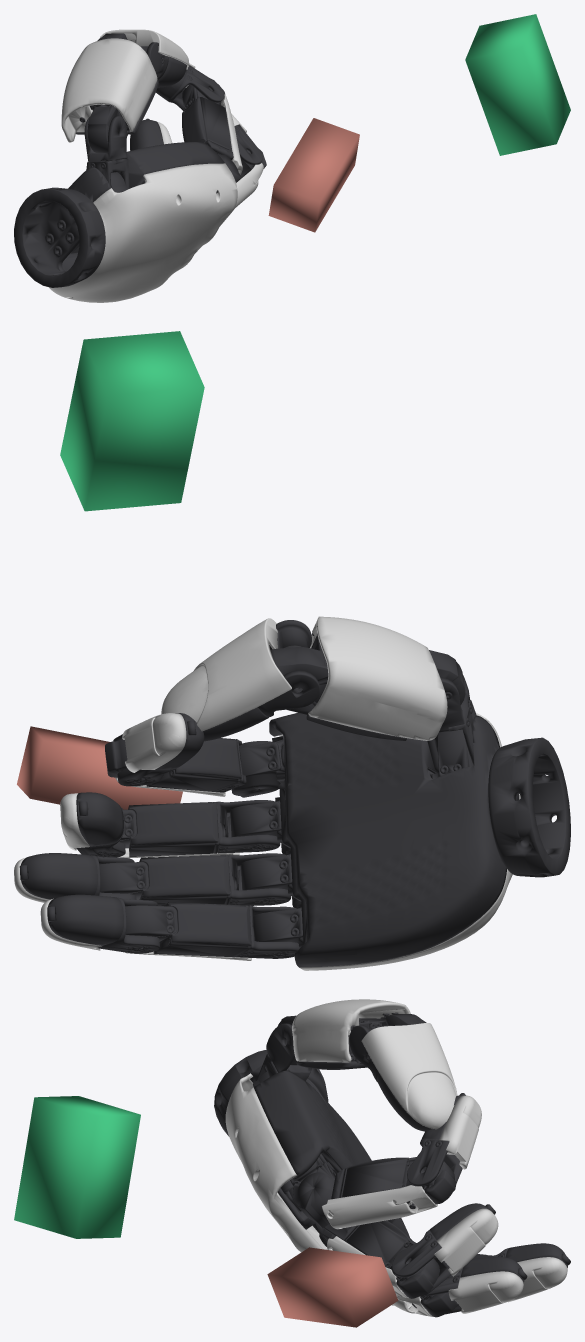
Rendered from prediction.glb.
3 views of the same model, one above another, from view 1: azimuth 30°, elevation 25°; view 2: azimuth 150°, elevation 25°; view 3: azimuth 270°, elevation 25° (orthographic). The views are drawn at different scales.
Parts seen in each view (by area): view 1: HAND__000__right_hand_back_link.STL__material, HAND__008__right_hand_link.STL__material, OBJECT__00__recorded_box, HAND__028__right_hand_thumb_rotaback_link1.STL__material, OBJECT__01__recorded_box, HAND__003__right_hand_index_rota_link1.STL__material, HAND__024__right_hand_thumb_bend_link.STL__material, HAND__025__right_hand_thumb_rota_link1.STL__material, HAND__004__right_hand_index_rota_link2.STL__material, HAND__029__right_hand_thumb_rotaback_link2.STL__material, HAND__026__right_hand_thumb_rota_link2.STL__material, HAND__015__right_hand_pinky_link2.STL__material (+3 smaller); view 2: HAND__008__right_hand_link.STL__material, OBJECT__00__recorded_box, HAND__028__right_hand_thumb_rotaback_link1.STL__material, HAND__029__right_hand_thumb_rotaback_link2.STL__material, HAND__019__right_hand_ring_link1.STL__material, HAND__014__right_hand_pinky_link1.STL__material, OBJECT__01__recorded_box, HAND__009__right_hand_mid_link1.STL__material, HAND__015__right_hand_pinky_link2.STL__material, HAND__003__right_hand_index_rota_link1.STL__material, HAND__020__right_hand_ring_link2.STL__material, HAND__026__right_hand_thumb_rota_link2.STL__material (+8 smaller); view 3: OBJECT__00__recorded_box, HAND__008__right_hand_link.STL__material, OBJECT__01__recorded_box, HAND__029__right_hand_thumb_rotaback_link2.STL__material, HAND__000__right_hand_back_link.STL__material, HAND__028__right_hand_thumb_rotaback_link1.STL__material, HAND__003__right_hand_index_rota_link1.STL__material, HAND__009__right_hand_mid_link1.STL__material, HAND__006__right_hand_index_rotaback_link1.STL__material, HAND__013__right_hand_midback_link2.STL__material, HAND__023__right_hand_ringback_link2.STL__material, HAND__010__right_hand_mid_link2.STL__material (+12 smaller).
Part boxes in pixels (x1,y1,x2,y2): HAND__000__right_hand_back_link.STL__material: [48, 163, 237, 302]; HAND__008__right_hand_link.STL__material: [14, 142, 224, 287]; OBJECT__00__recorded_box: [465, 14, 570, 155]; HAND__028__right_hand_thumb_rotaback_link1.STL__material: [61, 38, 157, 142]; OBJECT__01__recorded_box: [268, 118, 359, 232]; HAND__003__right_hand_index_rota_link1.STL__material: [182, 79, 233, 159]; HAND__024__right_hand_thumb_bend_link.STL__material: [84, 116, 129, 189]; HAND__025__right_hand_thumb_rota_link1.STL__material: [76, 33, 159, 152]; HAND__004__right_hand_index_rota_link2.STL__material: [156, 65, 224, 110]; HAND__029__right_hand_thumb_rotaback_link2.STL__material: [99, 29, 189, 67]; HAND__026__right_hand_thumb_rota_link2.STL__material: [140, 42, 187, 87]; HAND__015__right_hand_pinky_link2.STL__material: [130, 119, 163, 150]; HAND__008__right_hand_link.STL__material: [230, 712, 570, 967]; OBJECT__00__recorded_box: [60, 331, 204, 511]; HAND__028__right_hand_thumb_rotaback_link1.STL__material: [308, 616, 447, 740]; HAND__029__right_hand_thumb_rotaback_link2.STL__material: [161, 618, 291, 731]; HAND__019__right_hand_ring_link1.STL__material: [99, 853, 291, 905]; HAND__014__right_hand_pinky_link1.STL__material: [125, 902, 299, 958]; OBJECT__01__recorded_box: [17, 726, 182, 809]; HAND__009__right_hand_mid_link1.STL__material: [76, 800, 280, 856]; HAND__015__right_hand_pinky_link2.STL__material: [47, 894, 159, 953]; HAND__003__right_hand_index_rota_link1.STL__material: [105, 738, 246, 792]; HAND__020__right_hand_ring_link2.STL__material: [20, 853, 136, 899]; HAND__026__right_hand_thumb_rota_link2.STL__material: [203, 620, 320, 741]; OBJECT__00__recorded_box: [14, 1096, 140, 1238]; HAND__008__right_hand_link.STL__material: [214, 1049, 409, 1248]; OBJECT__01__recorded_box: [267, 1247, 398, 1327]; HAND__029__right_hand_thumb_rotaback_link2.STL__material: [361, 1023, 457, 1129]; HAND__000__right_hand_back_link.STL__material: [225, 1073, 332, 1252]; HAND__028__right_hand_thumb_rotaback_link1.STL__material: [292, 999, 410, 1062]; HAND__003__right_hand_index_rota_link1.STL__material: [331, 1157, 456, 1208]; HAND__009__right_hand_mid_link1.STL__material: [324, 1220, 439, 1298]; HAND__006__right_hand_index_rotaback_link1.STL__material: [322, 1185, 437, 1229]; HAND__013__right_hand_midback_link2.STL__material: [434, 1208, 498, 1276]; HAND__023__right_hand_ringback_link2.STL__material: [448, 1271, 523, 1313]; HAND__010__right_hand_mid_link2.STL__material: [392, 1203, 490, 1296].
Bounding box in the file's own units: 0.261 × 0.1633 × 0.2459.
